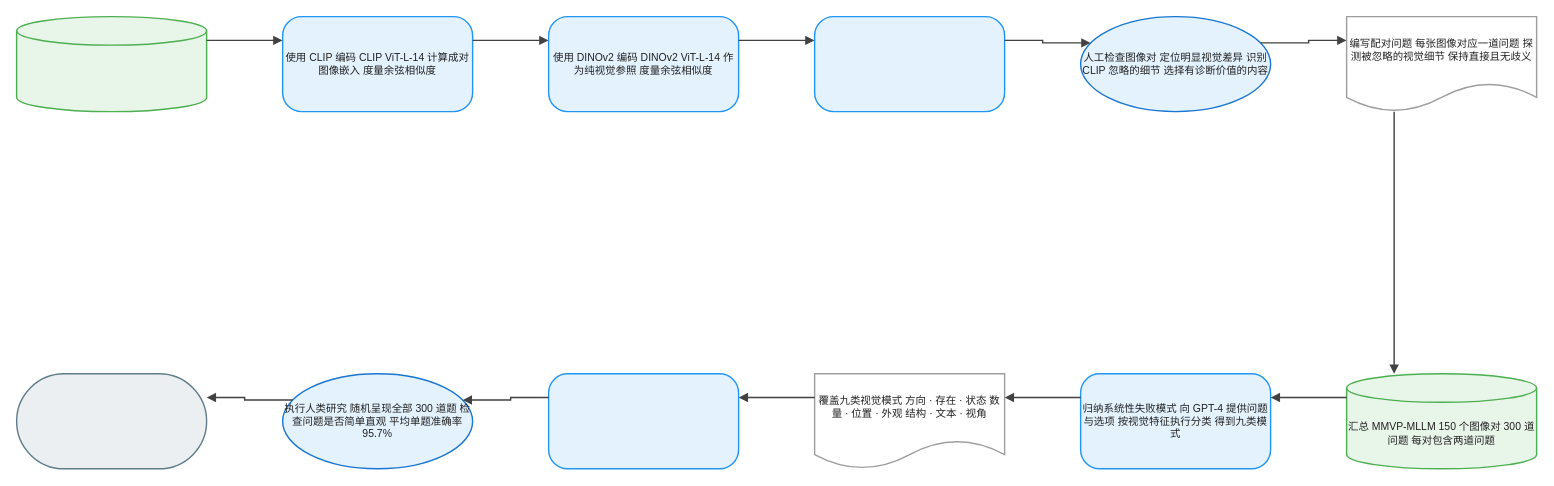
Image size: 1554x486. Some labels were removed from this diagram. The centre of each missing label's shape, as x and y in pixels:
应用盲点对筛选 CLIP 相似度高于 0.95 DINOv2 相似度低于 0.6 保留两种表征分歧对: the point at 909,63
收集图像语料 ImageNet-1K LAION-Aesthetics 形成候选图像对: the point at 111,63
独立询问每道题 输入一张图像与问题 消除聊天历史偏差 每题记录一个回答: the point at 643,421
计算配对准确率 要求同一对两题全对 否则该图像对记零分 报告模型与人类差距: the point at 111,421
